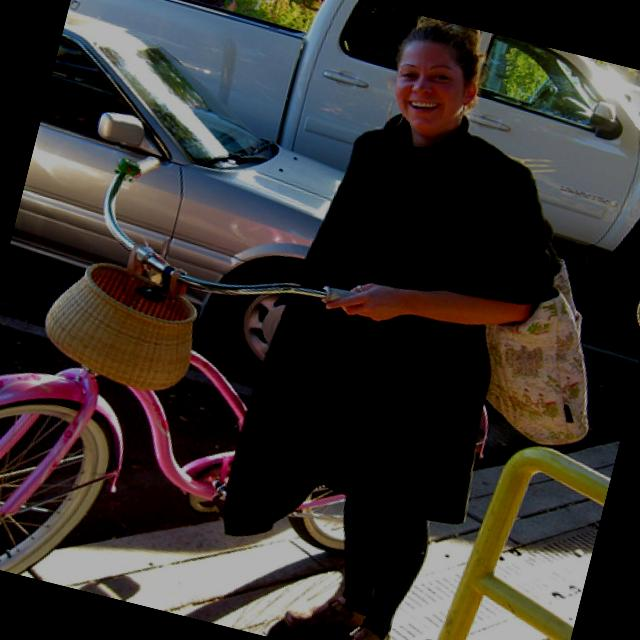Vehicle: (19, 0, 640, 357), (0, 4, 372, 370), (602, 78, 640, 162)
